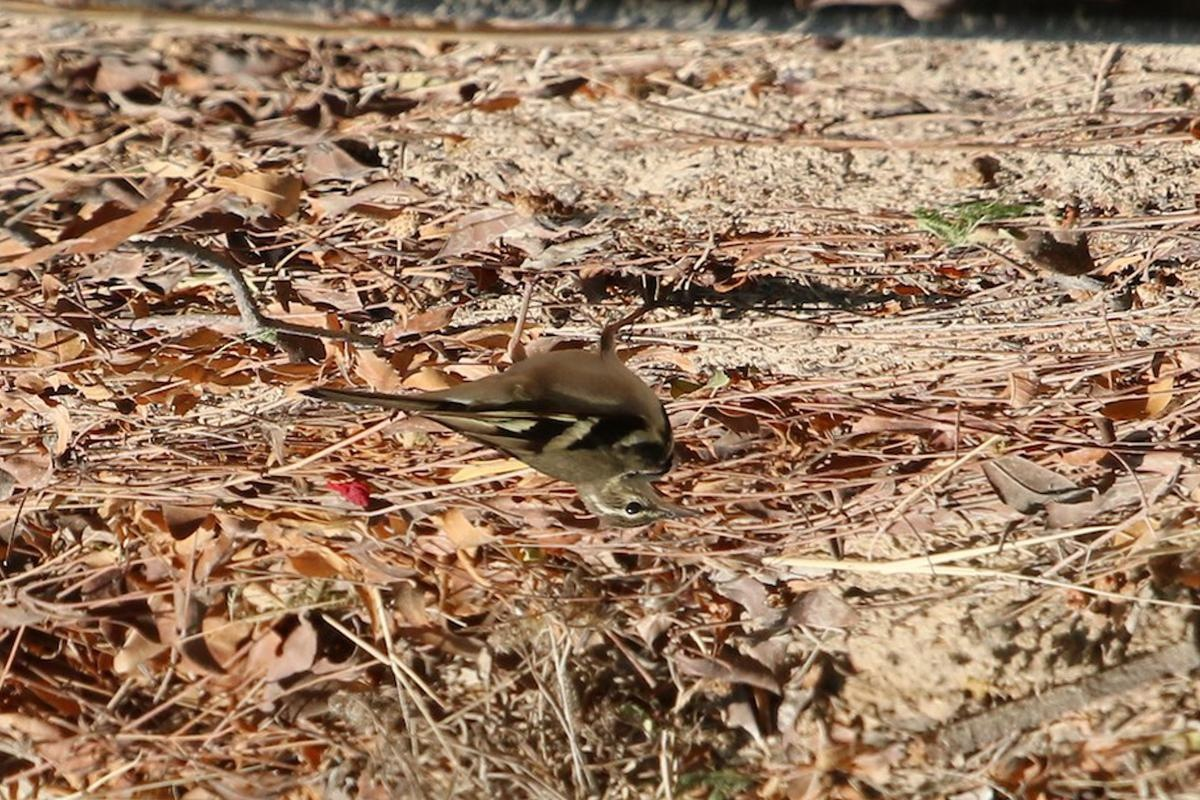wagtail: (373, 304, 701, 525)
